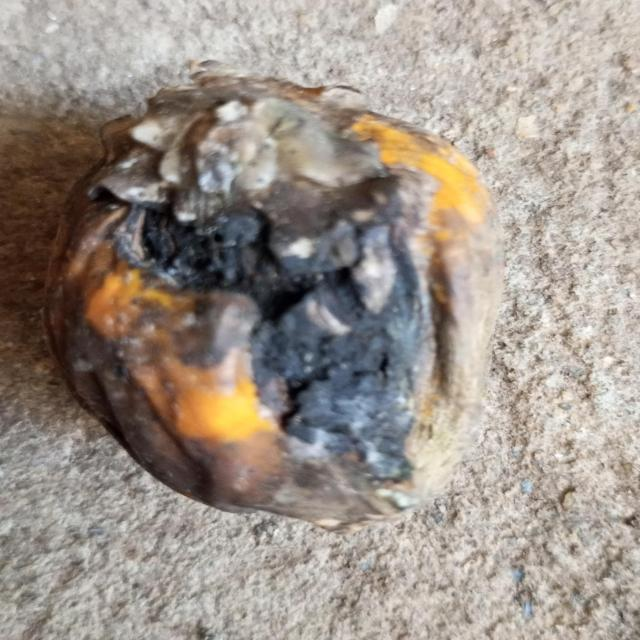damaged: (45, 61, 502, 529)
